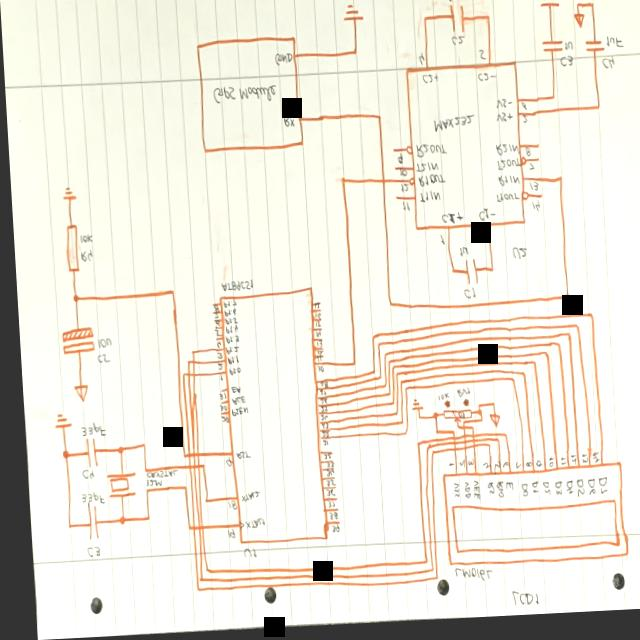capacitor: (55, 325, 92, 358), (80, 503, 93, 543), (449, 9, 465, 39), (79, 438, 93, 470), (461, 262, 474, 291), (540, 45, 562, 61), (583, 45, 603, 61)
crossover: (378, 182, 384, 189), (181, 453, 186, 460), (457, 450, 462, 456), (456, 430, 461, 436), (185, 527, 190, 533), (186, 465, 191, 471), (182, 374, 187, 380), (187, 374, 192, 380), (191, 465, 195, 472), (194, 526, 198, 533), (190, 453, 194, 460), (187, 361, 191, 368), (191, 526, 194, 534), (182, 466, 186, 472), (186, 454, 190, 460), (447, 452, 451, 457), (446, 441, 451, 445), (457, 439, 461, 444), (457, 445, 461, 450), (466, 449, 470, 454), (466, 443, 470, 448), (466, 439, 470, 444), (447, 446, 451, 450)
ground: (341, 7, 364, 28), (48, 413, 68, 432), (539, 0, 560, 15), (58, 186, 75, 204), (406, 403, 418, 415)
junction: (55, 449, 64, 461), (68, 293, 76, 306), (112, 516, 120, 528), (111, 445, 119, 457), (351, 52, 359, 62), (165, 290, 173, 300), (484, 18, 491, 28), (337, 179, 344, 189), (560, 297, 567, 307), (593, 109, 600, 119), (485, 270, 492, 279), (421, 19, 428, 28), (555, 180, 561, 190), (428, 432, 435, 440), (383, 304, 390, 312), (346, 363, 352, 372), (549, 99, 555, 108), (427, 416, 433, 424), (375, 118, 381, 126), (60, 523, 66, 531), (447, 272, 453, 280), (397, 433, 403, 441), (539, 357, 545, 365), (472, 413, 477, 422), (584, 318, 590, 325), (176, 487, 182, 494), (505, 382, 511, 389), (416, 563, 422, 570), (551, 348, 557, 355), (561, 339, 568, 345), (589, 8, 594, 16), (516, 377, 522, 383), (191, 579, 197, 585), (570, 330, 576, 336), (410, 445, 415, 452), (195, 465, 200, 472), (198, 569, 203, 576), (389, 414, 394, 421), (373, 378, 378, 385), (136, 444, 141, 450), (527, 366, 532, 372), (366, 339, 371, 345), (188, 588, 193, 594), (427, 580, 432, 586), (575, 8, 580, 14), (378, 356, 383, 362), (181, 526, 185, 533), (386, 404, 390, 411), (386, 369, 390, 376), (486, 407, 491, 412), (481, 449, 486, 454), (140, 517, 144, 523), (498, 438, 502, 444), (198, 500, 202, 506), (138, 468, 142, 474), (399, 391, 403, 397), (177, 455, 181, 461), (139, 489, 143, 495), (372, 346, 376, 352), (394, 384, 398, 390), (420, 450, 424, 456), (425, 454, 429, 460), (423, 572, 427, 578), (395, 424, 399, 430), (382, 396, 386, 402), (367, 373, 371, 379), (186, 352, 190, 357), (472, 408, 476, 413), (446, 435, 450, 440), (177, 374, 181, 379), (412, 419, 416, 424), (490, 443, 494, 448), (379, 387, 382, 393), (390, 375, 393, 381), (383, 363, 386, 369), (182, 363, 186, 367), (456, 425, 460, 429), (465, 431, 469, 435), (475, 423, 478, 428), (451, 430, 454, 434)
resistor: (61, 225, 77, 274), (437, 413, 467, 428)
source: (68, 385, 85, 403), (573, 19, 585, 37), (483, 418, 496, 434)
text: (210, 85, 279, 108), (431, 118, 474, 138), (446, 571, 487, 587), (216, 279, 249, 297), (414, 175, 445, 194), (504, 595, 533, 615), (413, 146, 445, 163), (75, 423, 102, 439), (413, 164, 440, 180), (415, 192, 440, 209), (493, 148, 518, 163), (75, 491, 99, 506), (438, 216, 461, 230), (141, 471, 173, 481), (234, 492, 255, 507), (495, 163, 519, 176), (495, 180, 518, 193), (475, 212, 494, 227), (493, 197, 518, 208), (238, 520, 259, 533), (605, 42, 623, 56), (274, 55, 292, 69), (508, 252, 524, 266), (600, 63, 615, 77), (458, 292, 473, 306), (493, 117, 512, 128), (476, 77, 495, 88), (225, 408, 244, 419), (420, 78, 438, 89), (466, 484, 475, 506), (591, 483, 602, 501), (456, 485, 465, 506), (494, 104, 511, 115), (230, 451, 244, 464), (80, 546, 94, 559), (77, 250, 90, 264), (558, 62, 573, 74), (489, 486, 499, 504), (446, 485, 455, 504), (281, 119, 294, 132), (236, 550, 250, 562), (450, 40, 464, 52), (451, 391, 465, 403), (93, 339, 108, 350), (570, 484, 578, 504), (226, 398, 240, 409), (581, 484, 589, 503), (92, 354, 107, 364), (559, 485, 568, 501), (140, 480, 156, 489), (77, 234, 90, 245), (528, 205, 538, 219), (548, 487, 557, 502), (562, 47, 573, 59), (76, 470, 88, 481), (222, 358, 235, 368), (221, 327, 234, 337), (477, 53, 486, 67), (480, 487, 489, 501), (221, 349, 235, 358), (221, 338, 235, 347), (219, 302, 233, 311), (224, 369, 236, 379), (536, 487, 544, 502), (473, 234, 482, 247), (585, 458, 594, 471), (399, 204, 408, 217), (514, 489, 522, 503), (220, 320, 234, 328), (526, 188, 537, 198), (456, 250, 465, 262), (432, 397, 444, 406), (221, 503, 231, 513), (225, 388, 236, 397), (446, 0, 460, 7), (417, 57, 424, 71), (574, 459, 582, 471), (451, 463, 459, 475), (487, 466, 495, 478), (525, 487, 533, 499), (220, 311, 232, 319), (215, 417, 224, 427), (499, 487, 508, 497), (398, 188, 407, 198), (322, 515, 332, 524), (221, 531, 229, 542), (564, 460, 571, 472), (213, 394, 222, 403), (518, 108, 526, 118), (319, 492, 329, 500), (325, 527, 333, 537), (436, 238, 442, 251), (542, 463, 549, 474), (529, 465, 538, 473), (476, 467, 485, 475), (210, 331, 218, 340), (397, 173, 405, 182), (395, 157, 401, 169), (461, 462, 468, 472), (554, 462, 561, 472), (320, 483, 330, 490), (220, 459, 226, 470), (315, 384, 323, 392), (321, 504, 329, 512), (320, 472, 328, 480), (212, 365, 219, 374), (312, 368, 319, 377), (521, 120, 527, 130), (523, 153, 529, 163), (317, 457, 327, 463), (509, 467, 516, 475), (214, 407, 222, 414), (211, 343, 218, 351), (209, 307, 216, 315), (315, 418, 323, 425), (315, 401, 323, 408), (316, 434, 324, 441), (526, 168, 532, 177), (311, 314, 317, 323), (311, 333, 317, 342), (315, 426, 324, 432), (320, 465, 329, 471), (311, 359, 318, 366), (496, 466, 502, 474), (212, 354, 218, 362), (312, 343, 318, 351), (314, 393, 322, 399), (519, 467, 526, 473), (311, 324, 317, 331), (312, 352, 319, 358), (315, 409, 322, 415), (317, 443, 323, 450), (310, 306, 316, 312), (211, 322, 216, 329), (211, 314, 215, 322), (442, 467, 448, 472), (214, 377, 219, 383)
